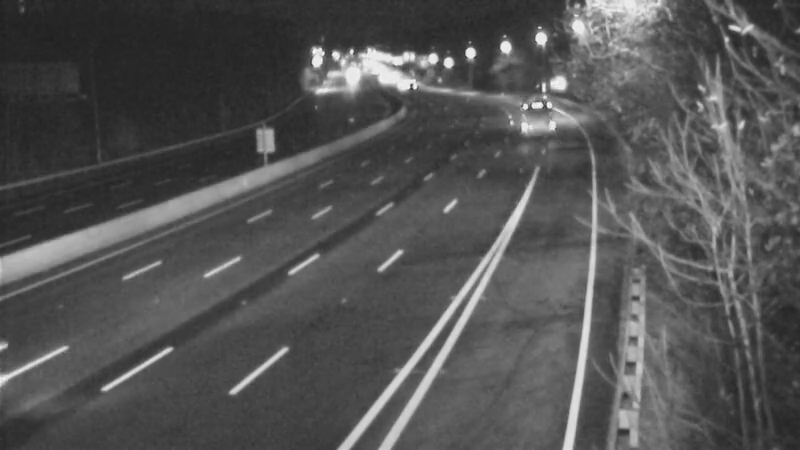vehicle: (358, 57, 408, 107), (387, 57, 437, 107), (500, 88, 550, 138)
